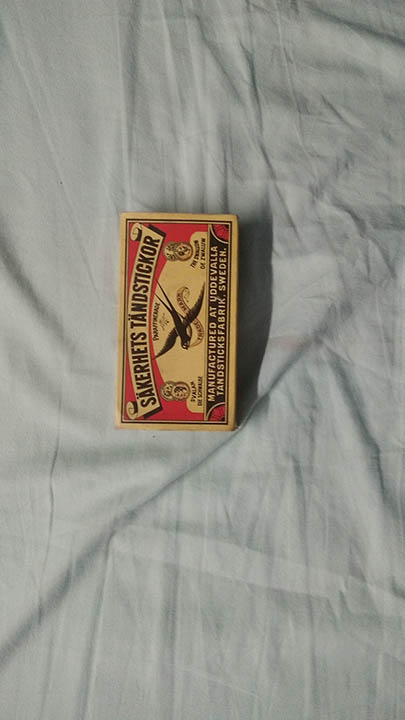match-sticks .90$: (112, 206, 247, 432)
